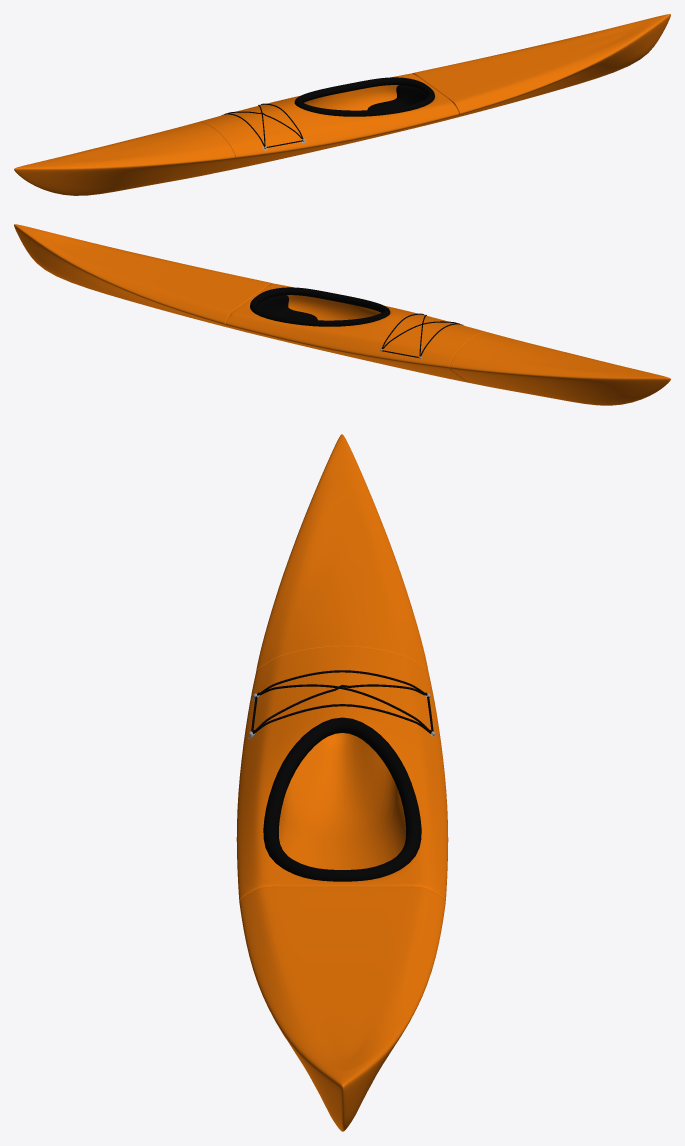
Rendered from Kayak.glb.
3 views of the same model, one above another, from view 1: azimuth 30°, elevation 25°; view 2: azimuth 150°, elevation 25°; view 3: azimuth 270°, elevation 25° (orthographic). The views are drawn at different scales.
Visible parts, largest first — view 1: Kayak_4, Padding_3, Kayak.001_2, Elastic_1; view 2: Kayak_4, Padding_3, Kayak.001_2, Elastic_1; view 3: Kayak_4, Padding_3, Elastic_1.
Part boxes in pixels (<box>): Kayak_4: <box>14,14,670,195</box>; Padding_3: <box>294,77,434,116</box>; Kayak.001_2: <box>367,85,427,110</box>; Elastic_1: <box>222,103,303,147</box>; Kayak_4: <box>14,224,670,405</box>; Padding_3: <box>250,287,390,326</box>; Kayak.001_2: <box>257,295,317,320</box>; Elastic_1: <box>381,313,462,357</box>; Kayak_4: <box>236,434,448,1131</box>; Padding_3: <box>263,717,421,881</box>; Elastic_1: <box>251,670,433,733</box>.
Size of what is drawn, in the model's own units: 2.21 by 0.1824 by 0.3075.
